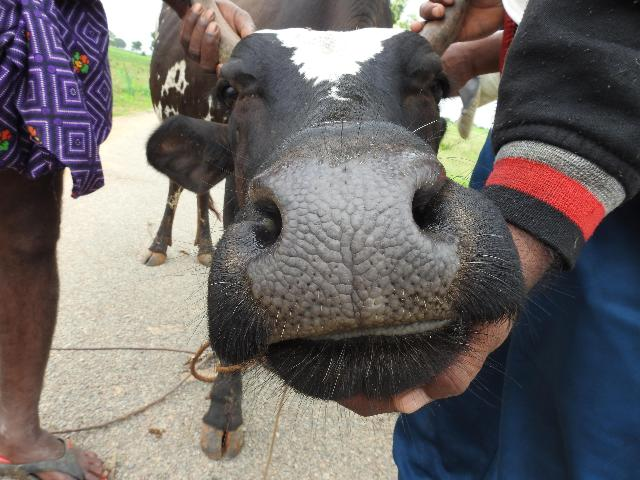Muzzle: (259, 177, 441, 332)
